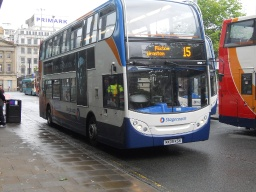bus: (36, 1, 213, 152)
